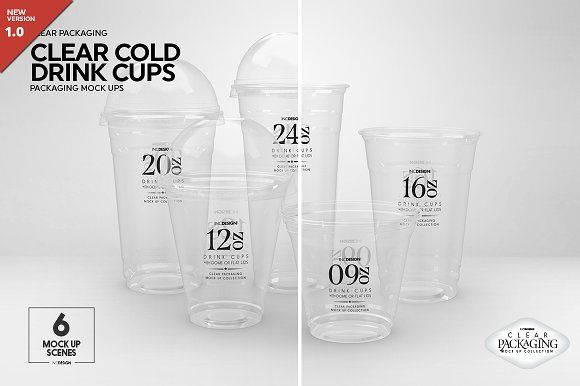plastic_glass: (68, 47, 263, 339), (137, 91, 315, 384), (185, 1, 367, 277), (350, 96, 500, 328), (287, 186, 415, 364)
